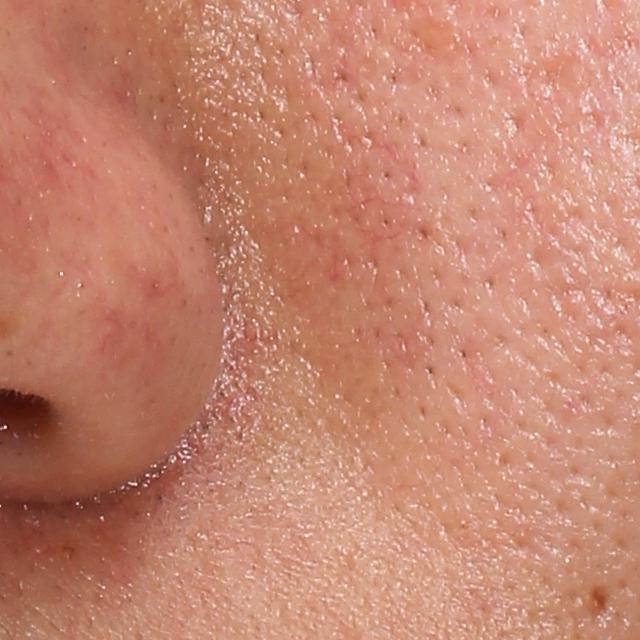nevus: (586, 581, 612, 624)
